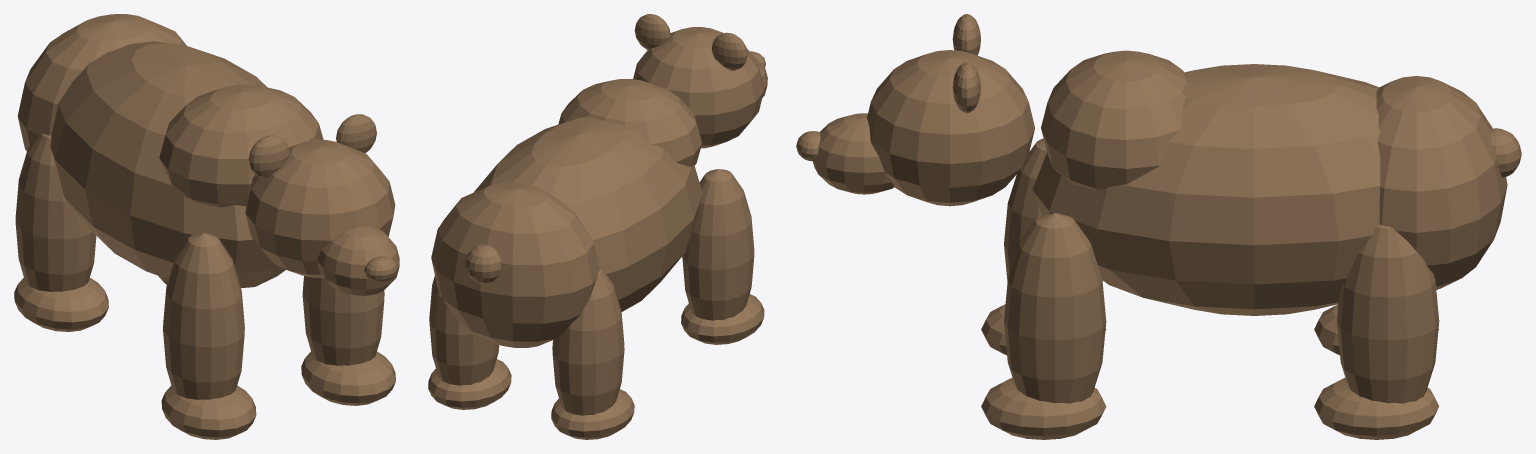
Rendered from Bear.fbx.
The picture shows the model from 3 angles, left to right: view 1: azimuth 30°, elevation 25°; view 2: azimuth 150°, elevation 25°; view 3: azimuth 270°, elevation 25°; orthographic projection. The views are drawn at different scales.
Parts seen in each view (by area): view 1: Bear; view 2: Bear; view 3: Bear.
Part boxes in pixels (left/top/right/bottom): Bear: left=14, top=14, right=399, bottom=439; Bear: left=428, top=14, right=767, bottom=439; Bear: left=796, top=14, right=1521, bottom=439.
Size of the model in its own units: 100 by 137 by 255.
